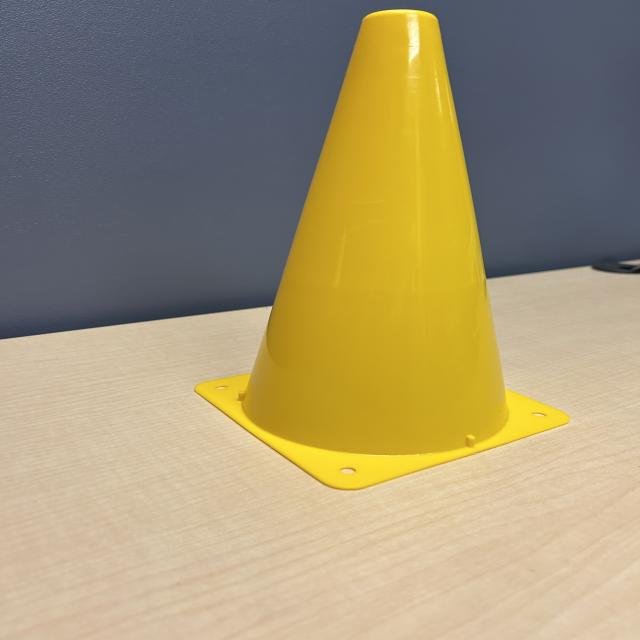yellow cone: (188, 5, 580, 491)
